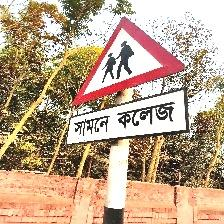College-in-front: (62, 13, 202, 152)
